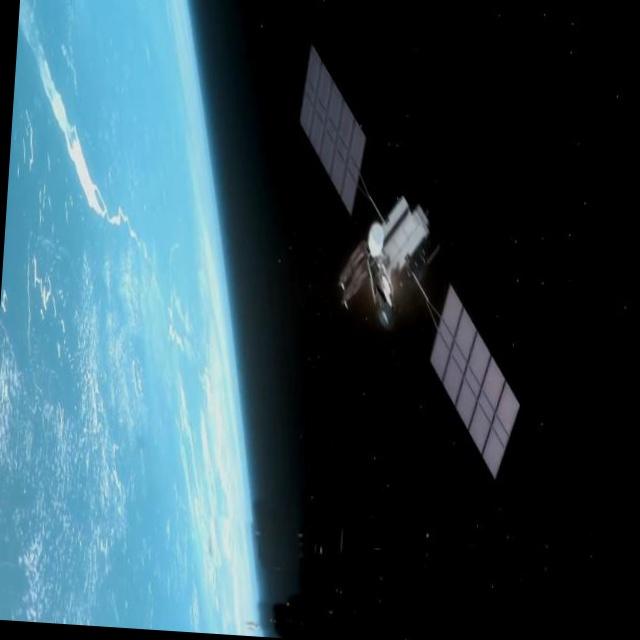medium_debris: (246, 20, 568, 500)
